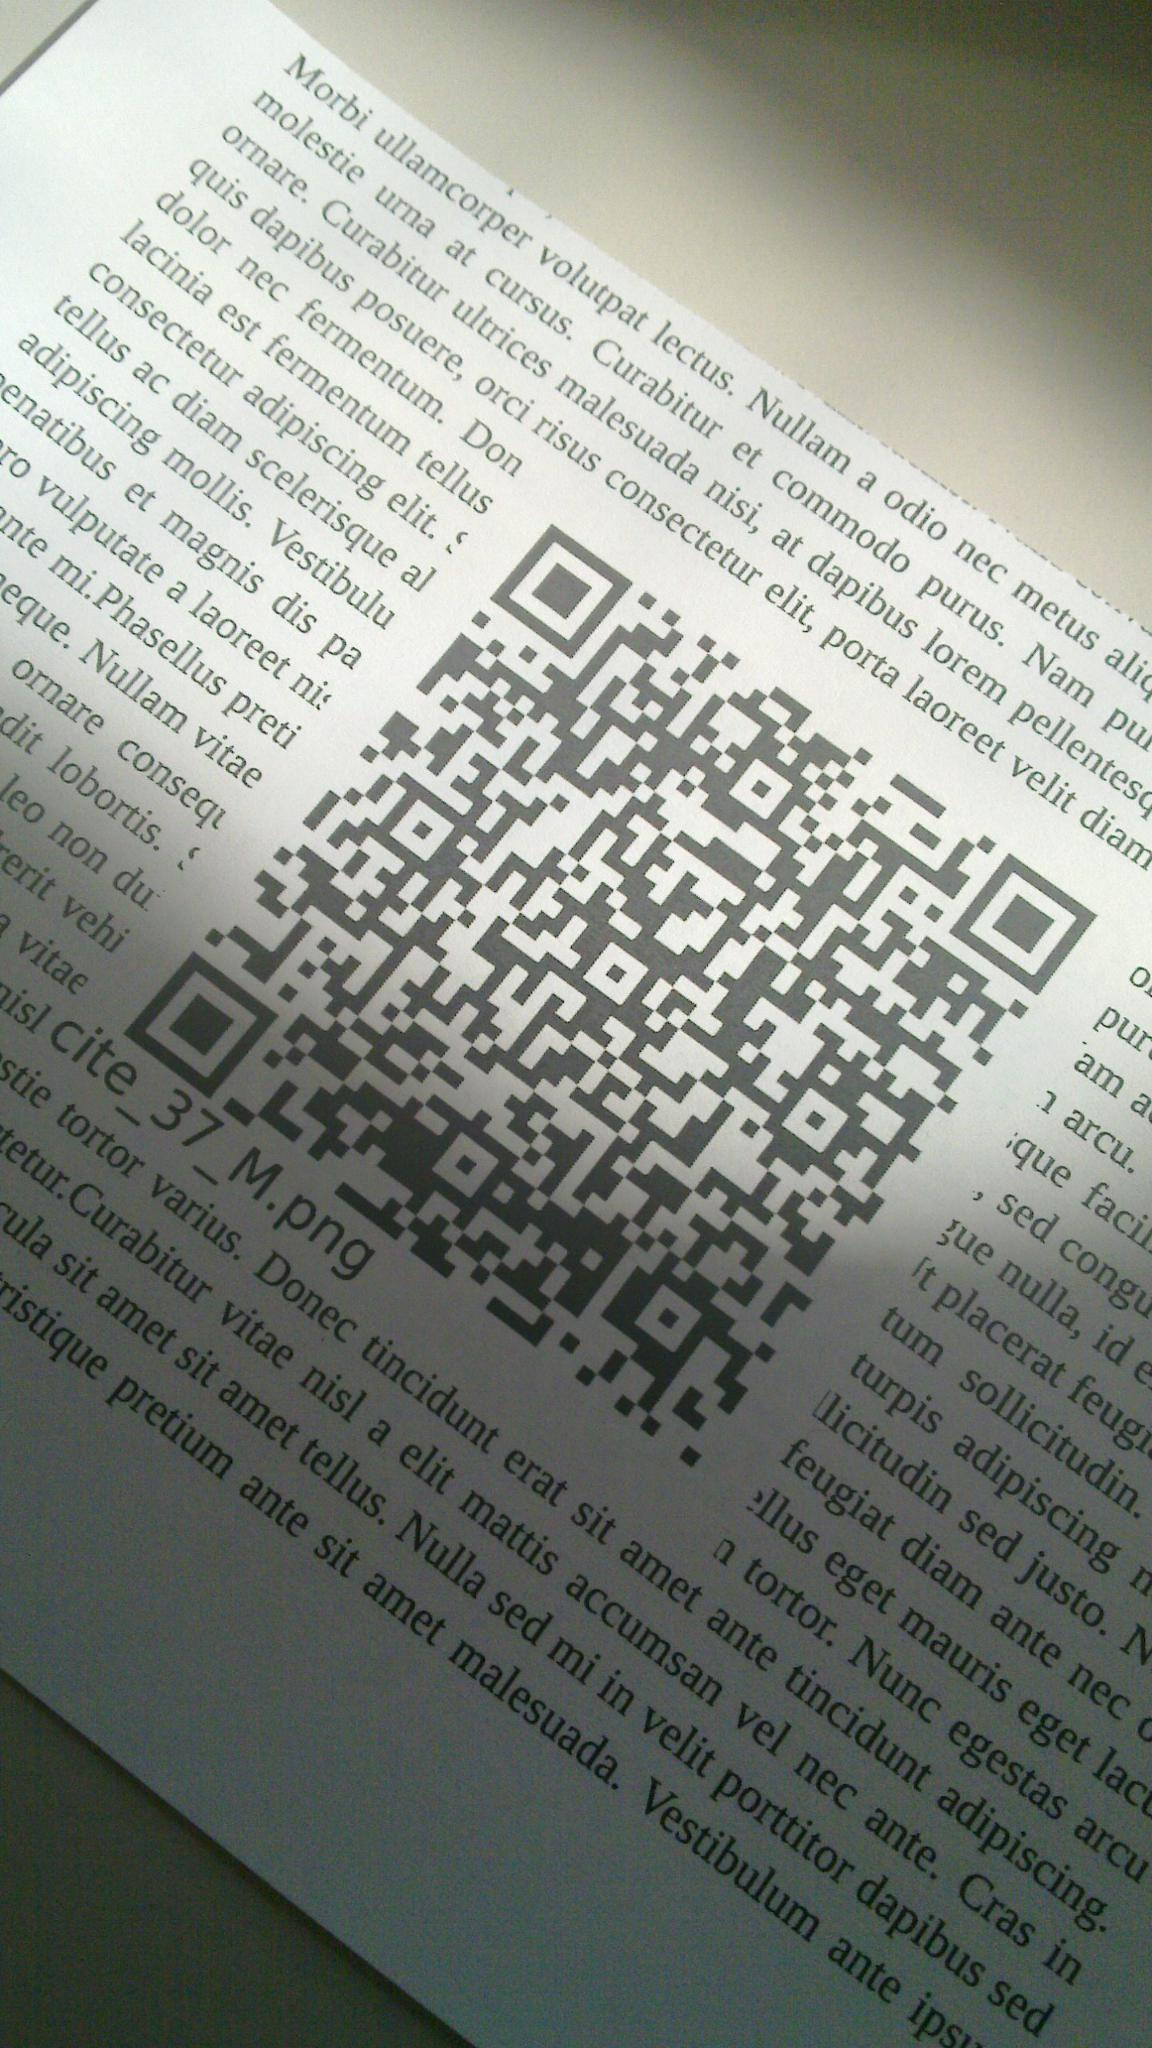Finder pattern: (121, 949, 288, 1099), (475, 518, 643, 665), (952, 854, 1100, 997)
